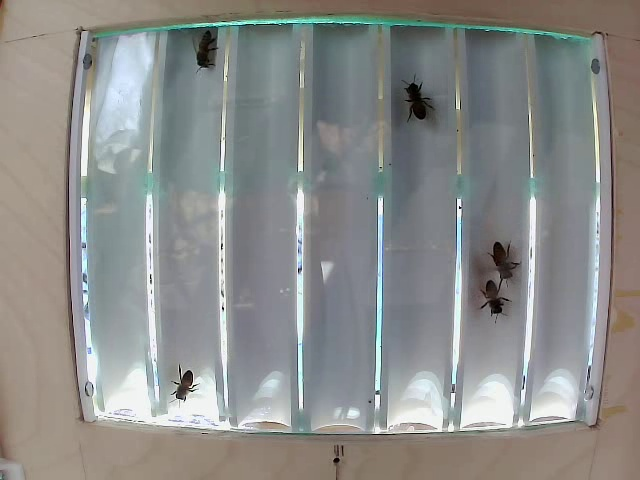bee: (181, 21, 232, 84), (391, 66, 438, 130), (472, 272, 517, 327), (163, 361, 207, 409), (488, 238, 520, 283)
